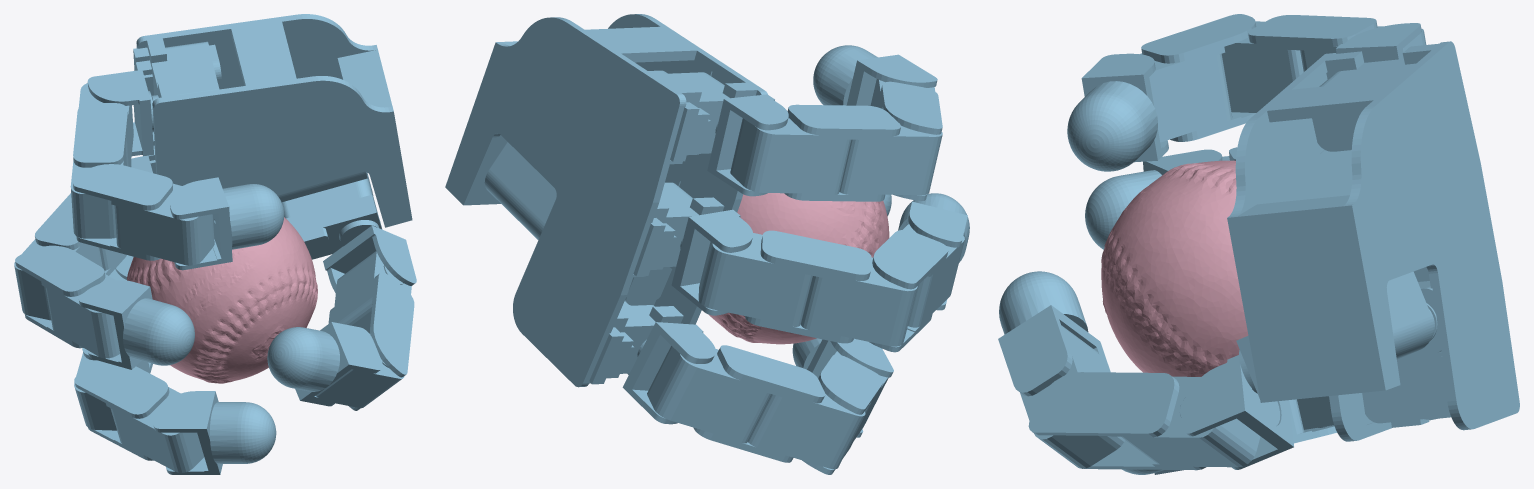
The picture shows the model from 3 angles, left to right: view 1: azimuth 30°, elevation 25°; view 2: azimuth 150°, elevation 25°; view 3: azimuth 270°, elevation 25°; orthographic projection. The views are drawn at different scales.
Parts seen in each view (by area): view 1: world, baseball.stl; view 2: world, baseball.stl; view 3: world, baseball.stl.
Boxes of the visible parts, x1,y1,x2,y2 form: world: (14,14,416,474); baseball.stl: (127,217,317,383); world: (445,14,969,474); baseball.stl: (708,193,889,344); world: (998,14,1519,474); baseball.stl: (1101,160,1248,376).
Size of the model in its own units: 0.1776 by 0.1562 by 0.1545.
